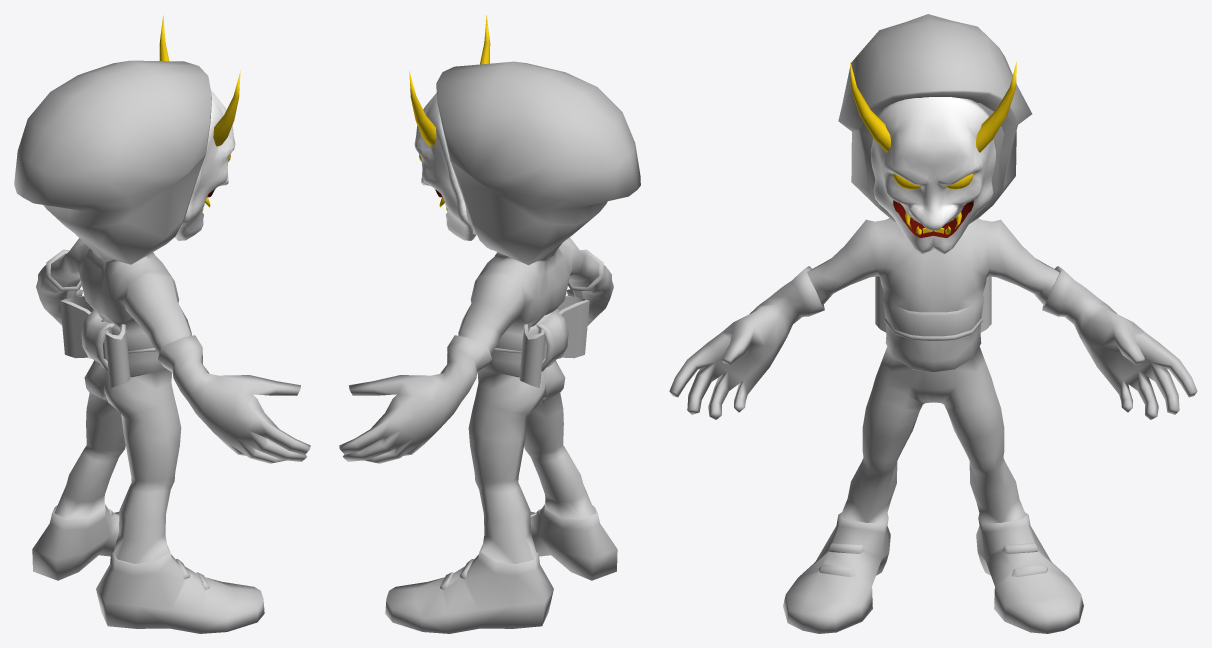
The model's file is Personaje1.obj.
3 renders of one model, left to right at view 1: azimuth 30°, elevation 25°; view 2: azimuth 150°, elevation 25°; view 3: azimuth 270°, elevation 25°, orthographic. The views are drawn at different scales.
Visible parts, largest first — view 1: Dummy, Mask; view 2: Dummy, Mask; view 3: Dummy, Mask.
Part boxes in pixels (x1,y1,x2,y2): Dummy: (14,60,310,633); Mask: (159,15,240,240); Dummy: (339,61,640,633); Mask: (409,15,490,240); Dummy: (669,14,1197,633); Mask: (850,62,1016,253).
Bounding box in the file's own units: 1.19 × 2.86 × 2.4.
